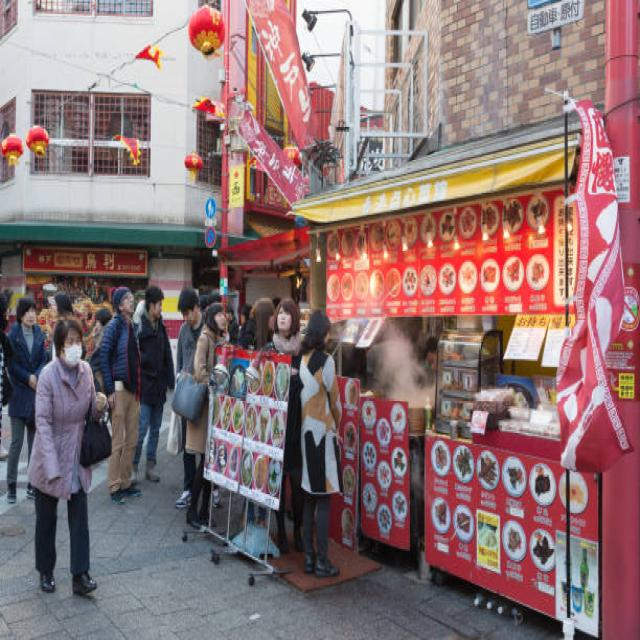Emperan: (168, 110, 640, 640)
